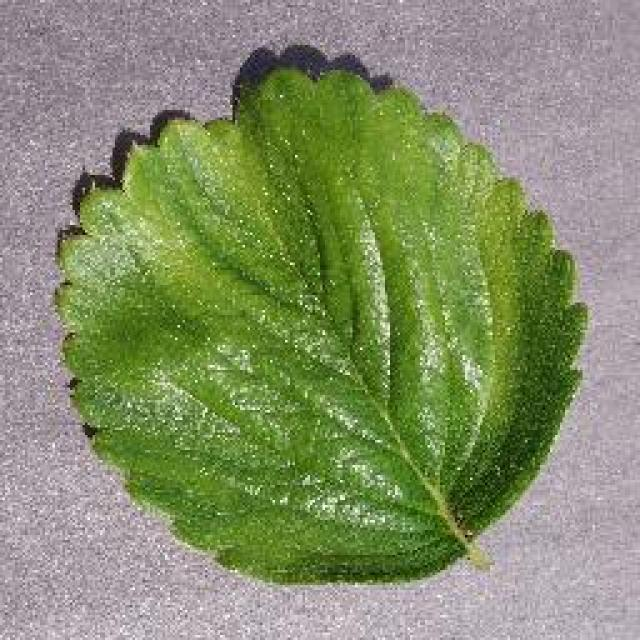Strawberry___healthy: (42, 30, 602, 608)
